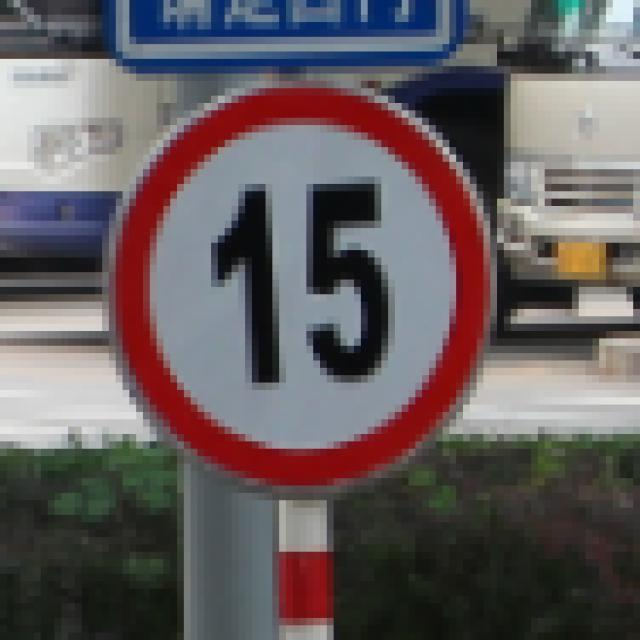Speed: (98, 71, 503, 499)
